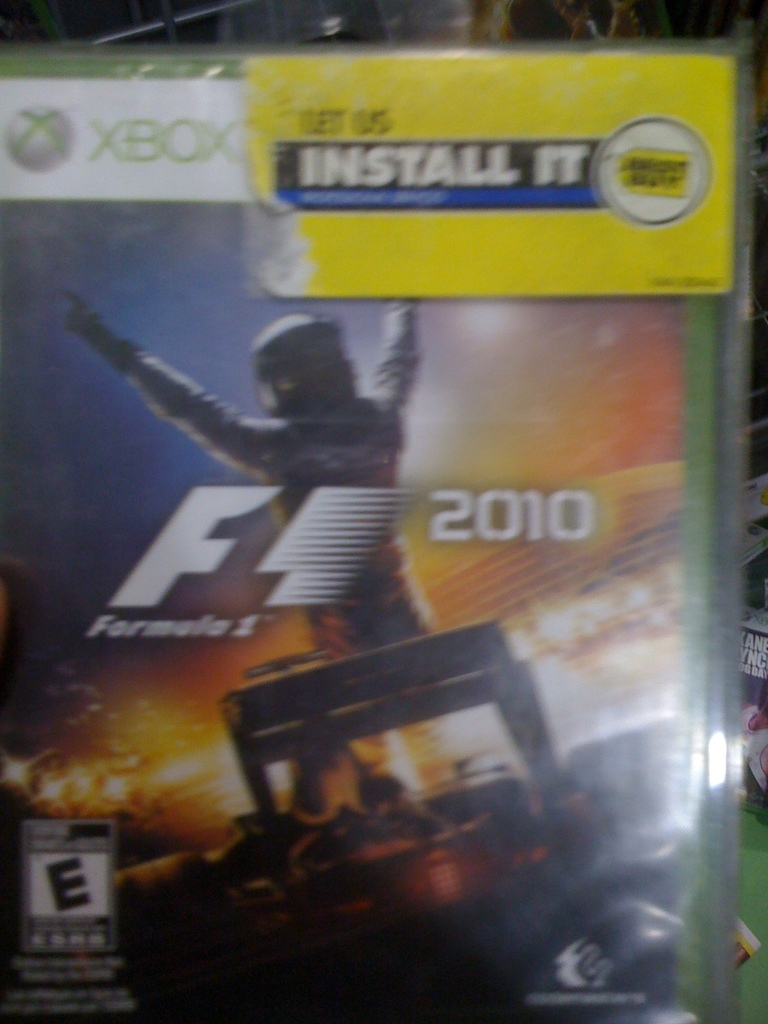person: (61, 286, 432, 694)
